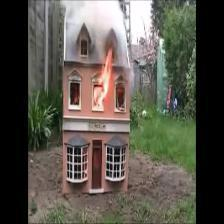fire: (93, 47, 112, 106)
